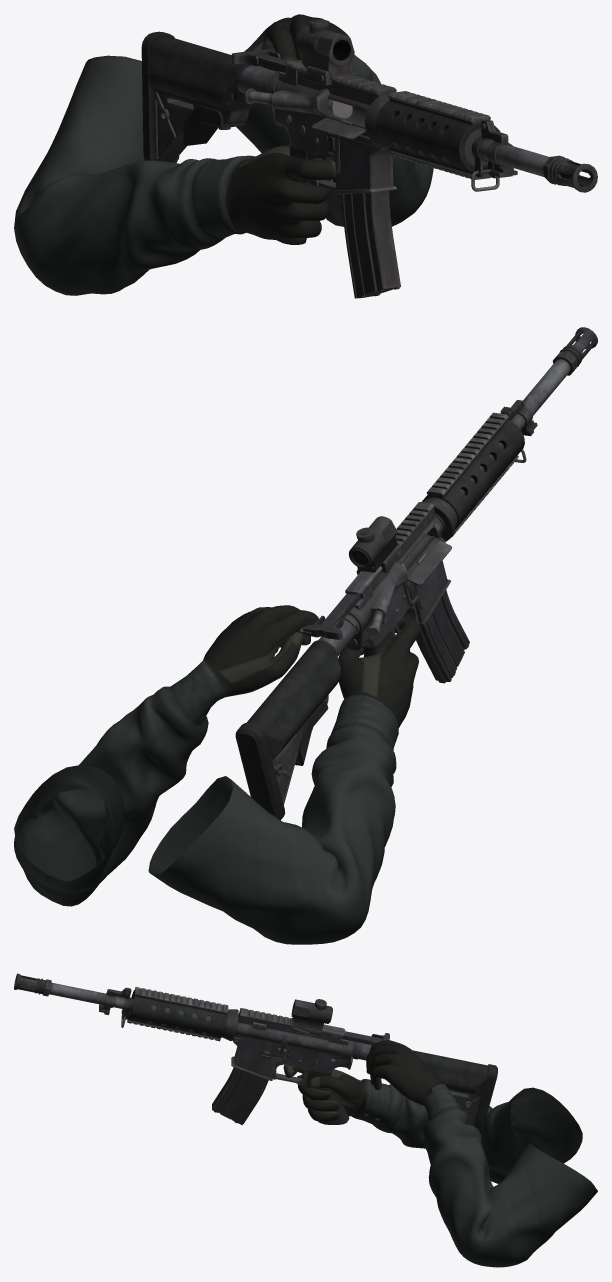
The model's file is carbine_000128.obj.
The picture shows the model from 3 angles, top to bottom: view 1: azimuth 30°, elevation 25°; view 2: azimuth 150°, elevation 25°; view 3: azimuth 270°, elevation 25°; orthographic projection. The views are drawn at different scales.
Parts seen in each view (by area): view 1: armmesh_arms_0, base_carbine_0, clip_carbine_0, scope_carbine_0, handle_carbine_0, lid_carbine_0; view 2: armmesh_arms_0, base_carbine_0, clip_carbine_0, scope_carbine_0, handle_carbine_0, lid_carbine_0; view 3: armmesh_arms_0, base_carbine_0, clip_carbine_0, scope_carbine_0, handle_carbine_0.
Boxes of the visible parts, <box> form: armmesh_arms_0: <box>14,14,433,295</box>; base_carbine_0: <box>141,31,597,244</box>; clip_carbine_0: <box>341,190,400,298</box>; scope_carbine_0: <box>296,19,358,85</box>; handle_carbine_0: <box>232,48,289,72</box>; lid_carbine_0: <box>311,117,365,139</box>; armmesh_arms_0: <box>14,605,420,944</box>; base_carbine_0: <box>235,327,597,820</box>; clip_carbine_0: <box>416,590,469,683</box>; scope_carbine_0: <box>349,516,401,575</box>; handle_carbine_0: <box>302,593,360,639</box>; lid_carbine_0: <box>407,540,451,585</box>; armmesh_arms_0: <box>283,1040,597,1267</box>; base_carbine_0: <box>14,973,497,1133</box>; clip_carbine_0: <box>212,1067,268,1124</box>; scope_carbine_0: <box>291,999,332,1035</box>; handle_carbine_0: <box>341,1031,389,1045</box>.
Size of the model in its own units: 54.16 by 53.96 by 120.
3 materials, 3 textured.
